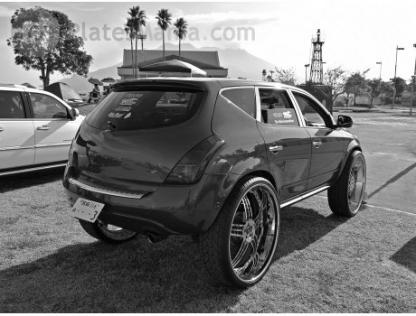license plate: (68, 190, 108, 232)
